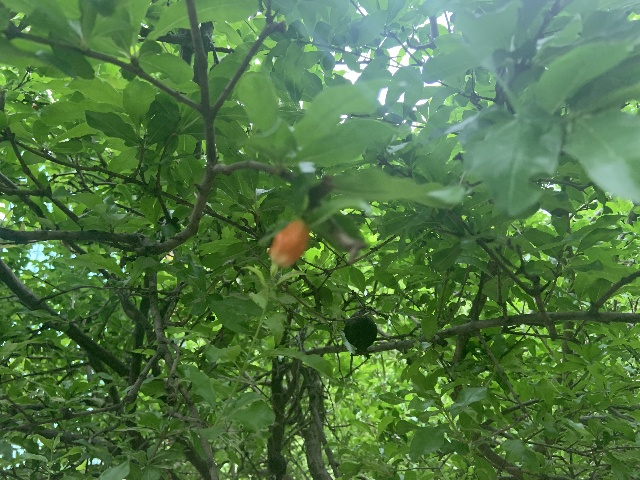bud: (267, 219, 310, 267)
